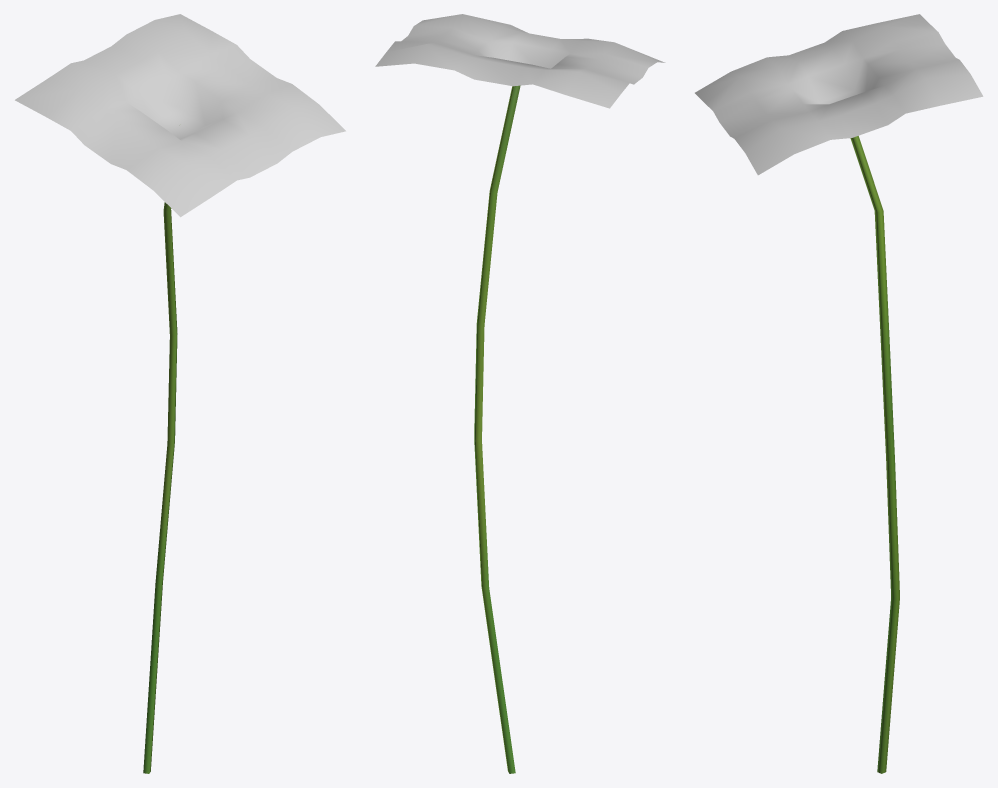
The model's file is SM_flower_01.fbx.
3 renders of one model, left to right at view 1: azimuth 30°, elevation 25°; view 2: azimuth 150°, elevation 25°; view 3: azimuth 270°, elevation 25°, orthographic. The views are drawn at different scales.
Visible parts, largest first — view 1: SM_flower_01; view 2: SM_flower_01; view 3: SM_flower_01.
Part boxes in pixels (x1,y1,x2,y2): SM_flower_01: (15,14,345,773); SM_flower_01: (375,14,665,773); SM_flower_01: (695,14,983,773).
Bounding box in the file's own units: 25.88 × 69.3 × 25.08.
